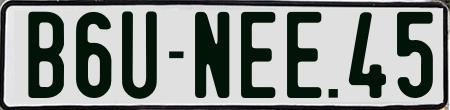4: (349, 9, 387, 100)
5: (394, 11, 432, 102)
6: (76, 10, 117, 99)
B: (28, 9, 64, 98)
E: (240, 10, 276, 97), (286, 11, 320, 100)
N: (193, 9, 228, 98)
U: (121, 8, 162, 100)
